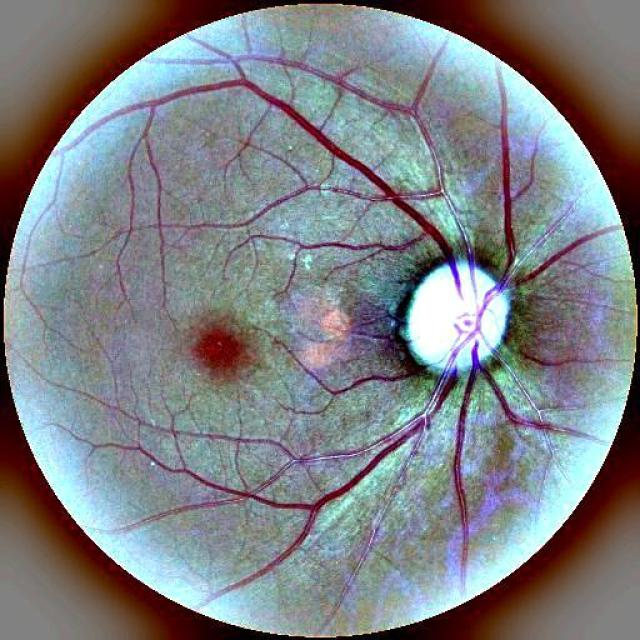Macula: (194, 328, 241, 370)
Nerves: (130, 81, 584, 594), (70, 40, 478, 286), (229, 232, 420, 256)
Optic Disk: (400, 259, 510, 375)
